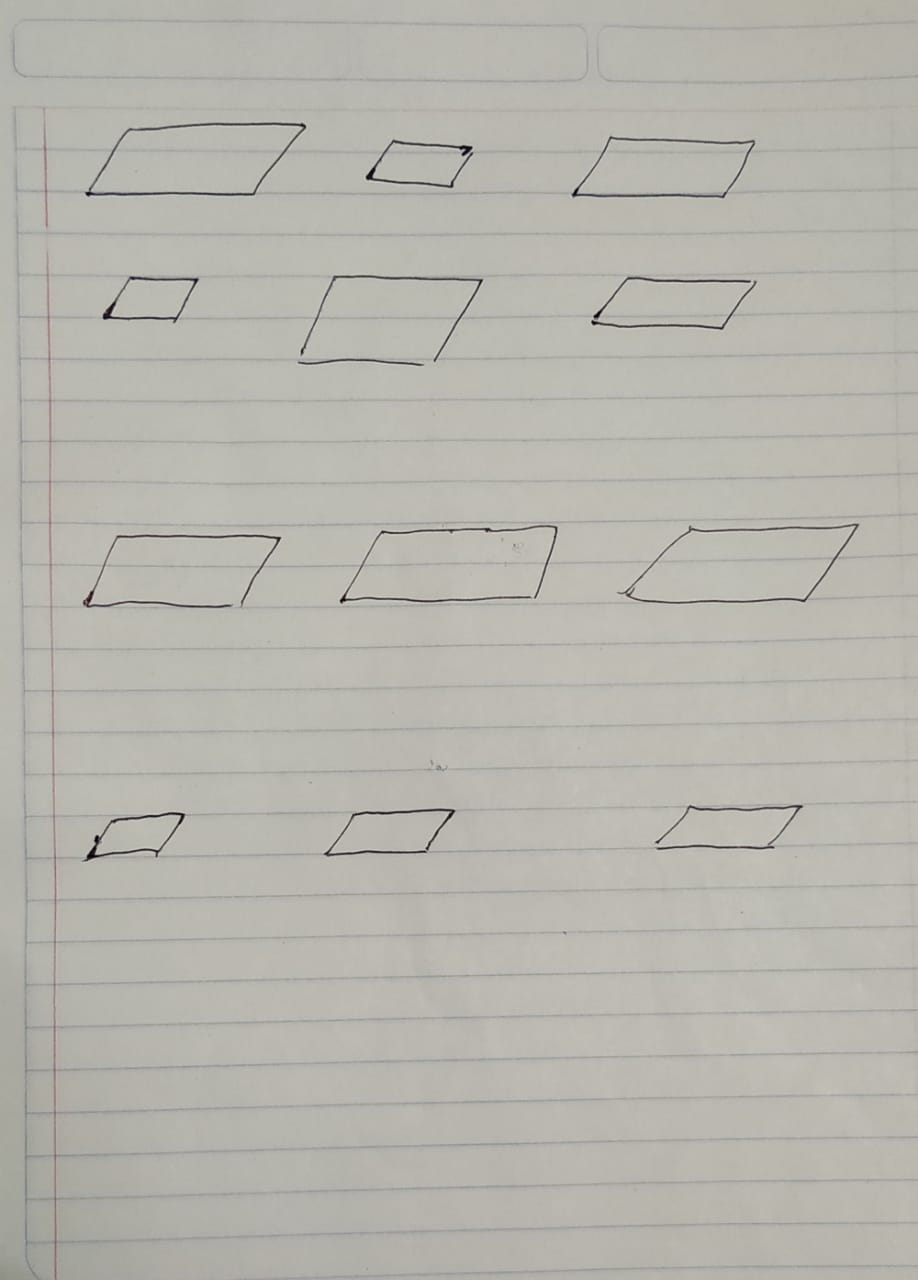scan: (608, 514, 870, 615), (287, 257, 498, 382), (328, 514, 573, 617), (75, 515, 291, 627), (76, 109, 313, 210), (562, 121, 767, 215), (583, 262, 771, 351), (644, 787, 812, 863), (316, 794, 470, 870), (354, 128, 490, 200), (74, 799, 196, 875), (94, 259, 213, 336)
